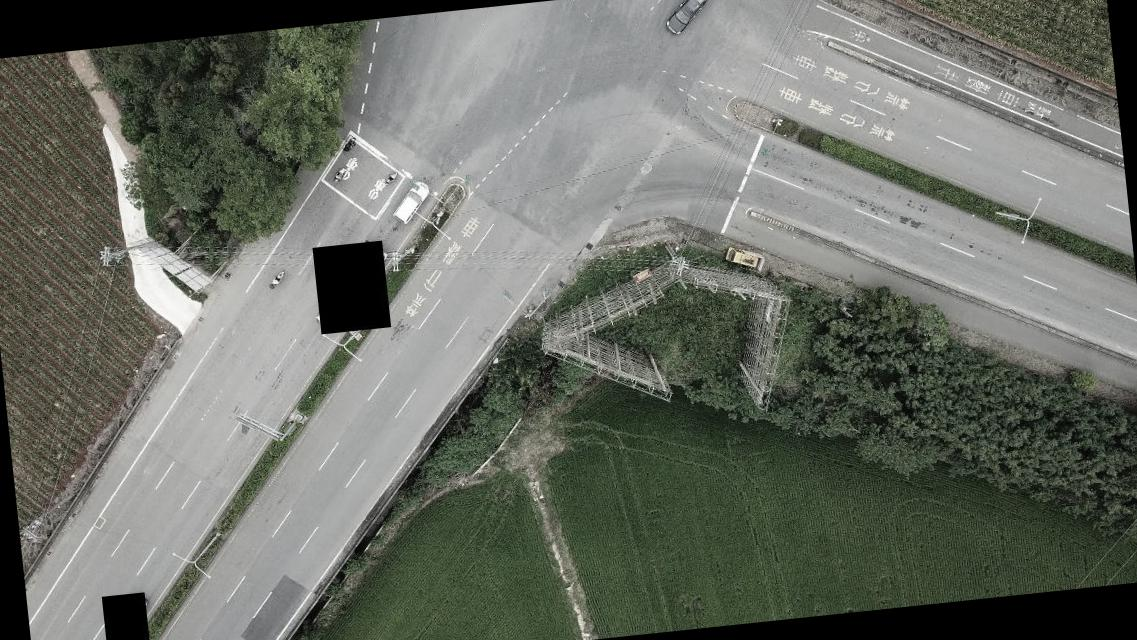vehicle: (388, 178, 434, 229), (662, 0, 712, 36), (724, 244, 760, 272)
